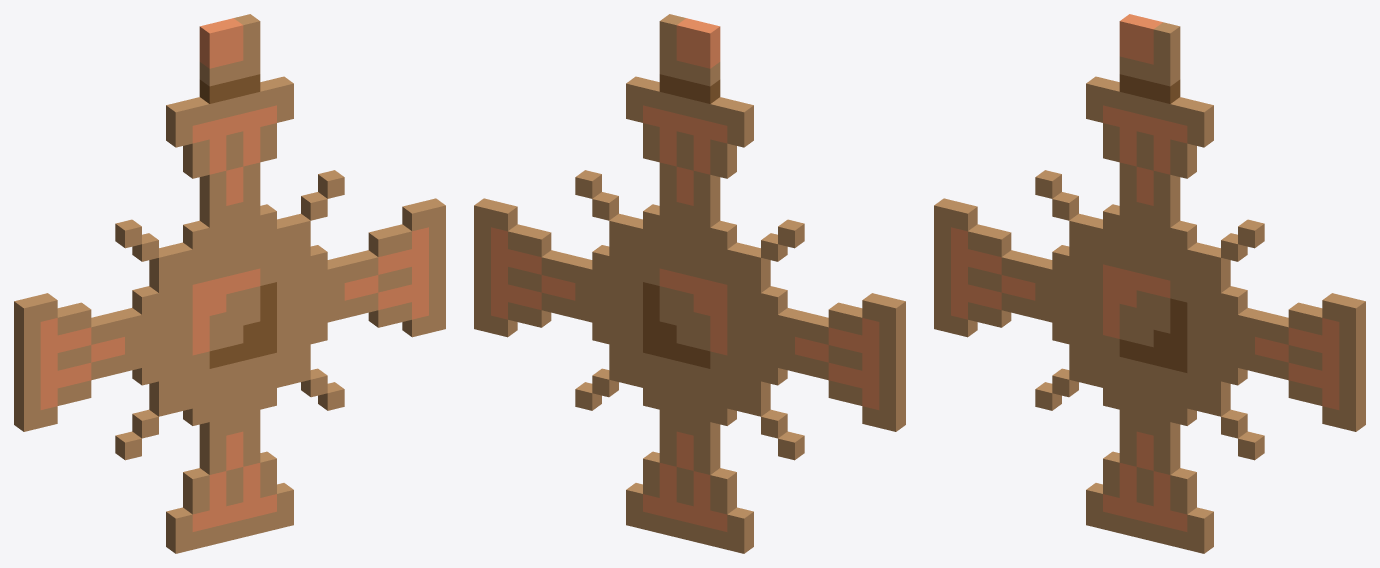
File: Ac_Medal03.fbx
The picture shows the model from 3 angles, left to right: view 1: azimuth 30°, elevation 25°; view 2: azimuth 150°, elevation 25°; view 3: azimuth 330°, elevation 25°; orthographic projection.
Parts seen in each view (by area): view 1: Default; view 2: Default; view 3: Default.
Boxes of the visible parts, bbox=[...] form: Default: bbox=[14, 14, 445, 553]; Default: bbox=[474, 14, 905, 553]; Default: bbox=[934, 14, 1365, 553].
Bounding box in the file's own units: 25 × 29 × 1.
1 material, 1 textured.
